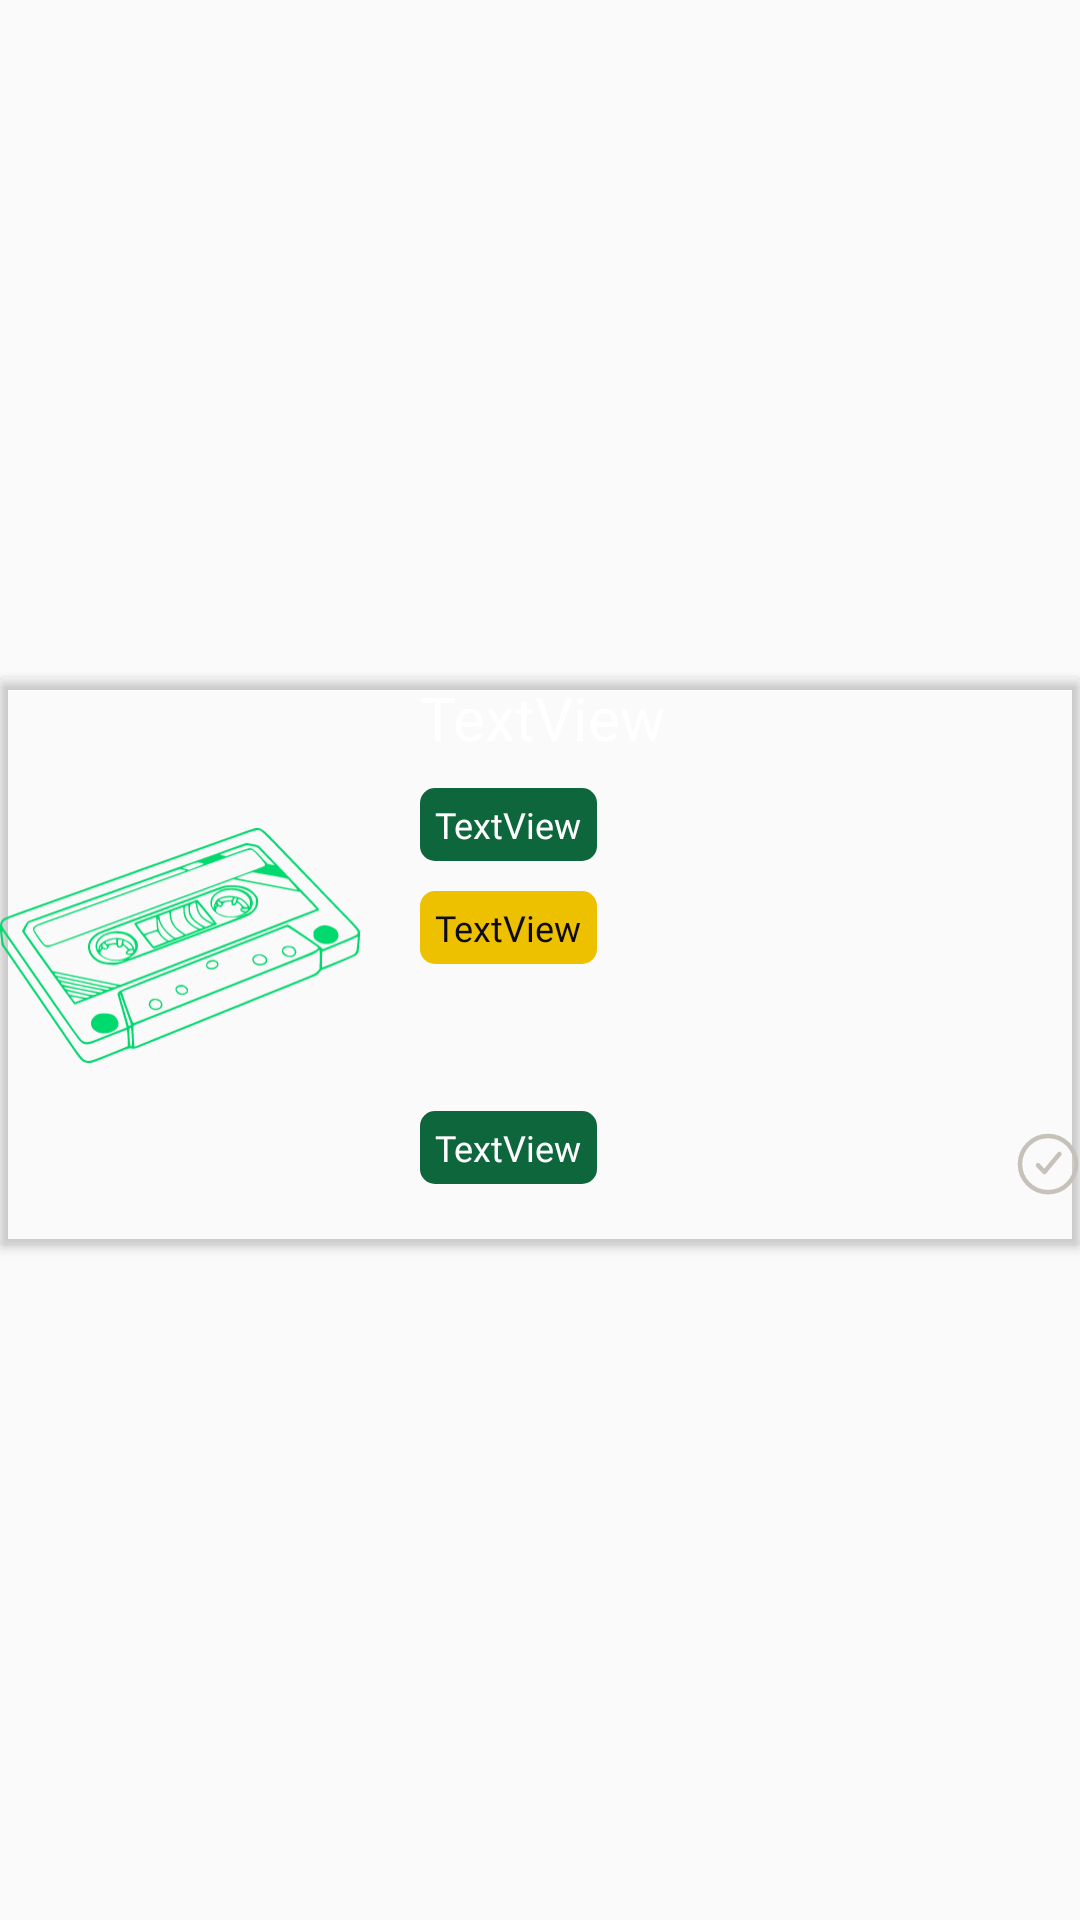

Icons on this 1080w x 1920h Android screen, each with the point to tap as [x,y]:
is watched film: [1049,1164]
